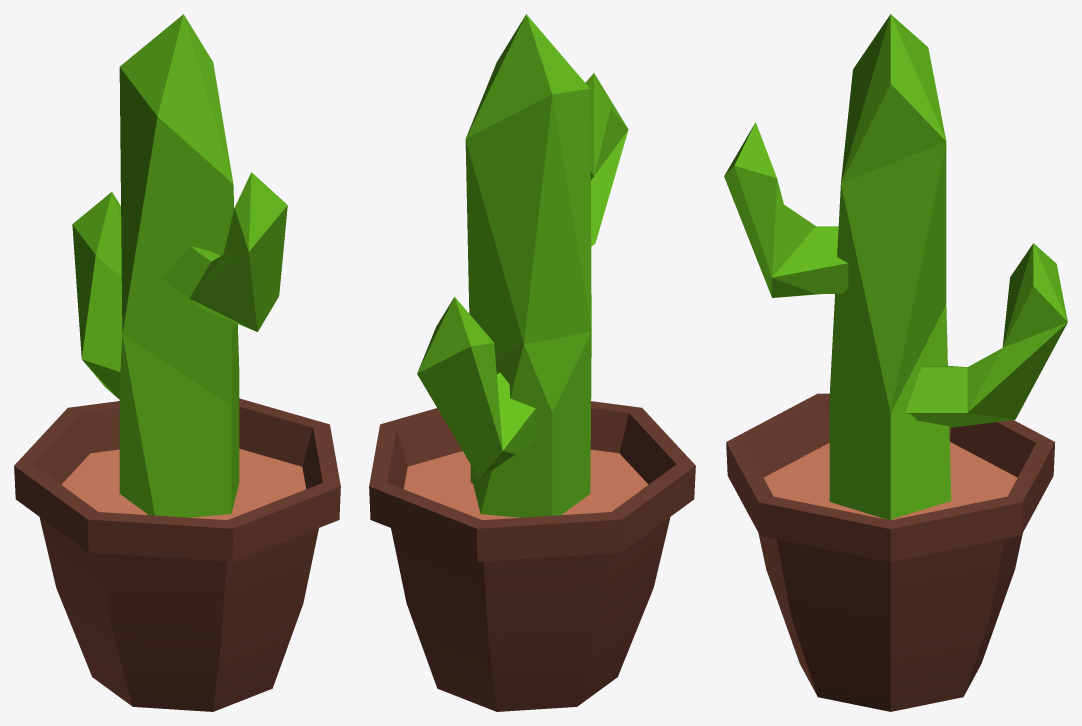
File: Cactus.fbx
3 renders of one model, left to right at view 1: azimuth 30°, elevation 25°; view 2: azimuth 150°, elevation 25°; view 3: azimuth 270°, elevation 25°, orthographic.
Parts seen in each view (by area): view 1: Cactus; view 2: Cactus; view 3: Cactus.
Part boxes in pixels (x1,y1,x2,y2): Cactus: (14, 14, 340, 711); Cactus: (369, 14, 695, 711); Cactus: (724, 14, 1067, 711).
Size of the model in its own units: 15.02 by 33.98 by 16.1.
1 material, 1 textured.
